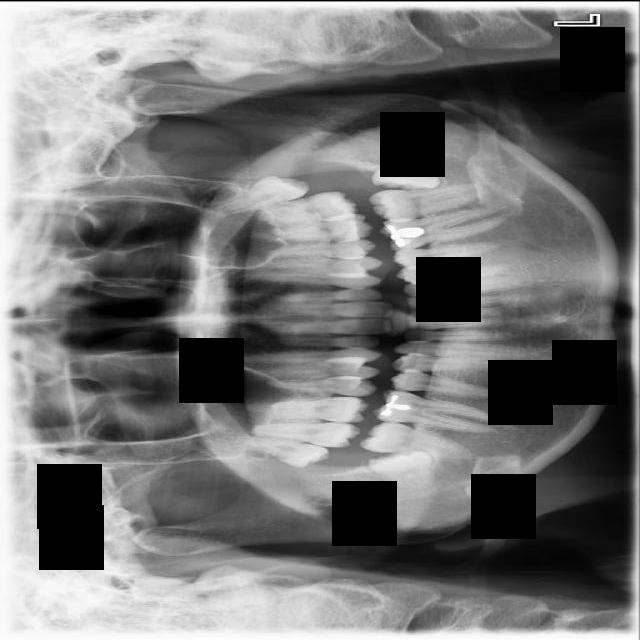3M ESPE Implant: (236, 432, 333, 472)
52: (370, 383, 429, 431), (378, 213, 436, 254)
73: (584, 40, 594, 46)
BioHorizons Implant: (243, 189, 360, 222)
BioLife Implant: (211, 166, 312, 219)
Biomet 3i Implant: (369, 147, 440, 192)
Blue Sky Bio Implant: (367, 180, 493, 224)
Caries: (252, 421, 363, 448)
Implant: (358, 417, 473, 462)
Keystone Dental Implant: (366, 448, 436, 496)
